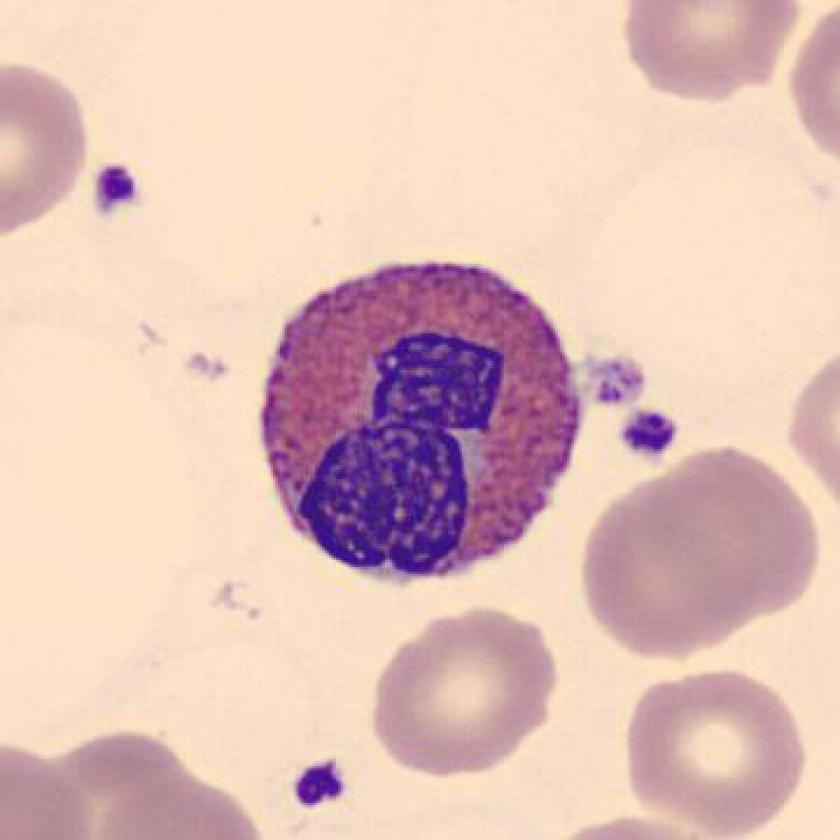eosinophil: (246, 247, 598, 594)
